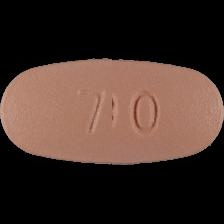42291-190: (0, 0, 224, 224)
